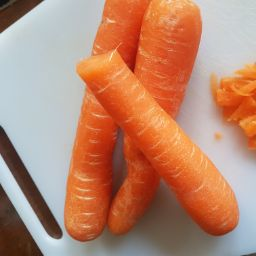Sliced carrots: (28, 32, 240, 249), (82, 2, 195, 254), (191, 49, 256, 155)
